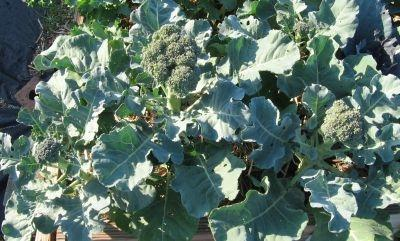broccoli: (318, 100, 364, 144), (167, 66, 195, 98), (34, 137, 62, 165), (295, 20, 314, 52)
